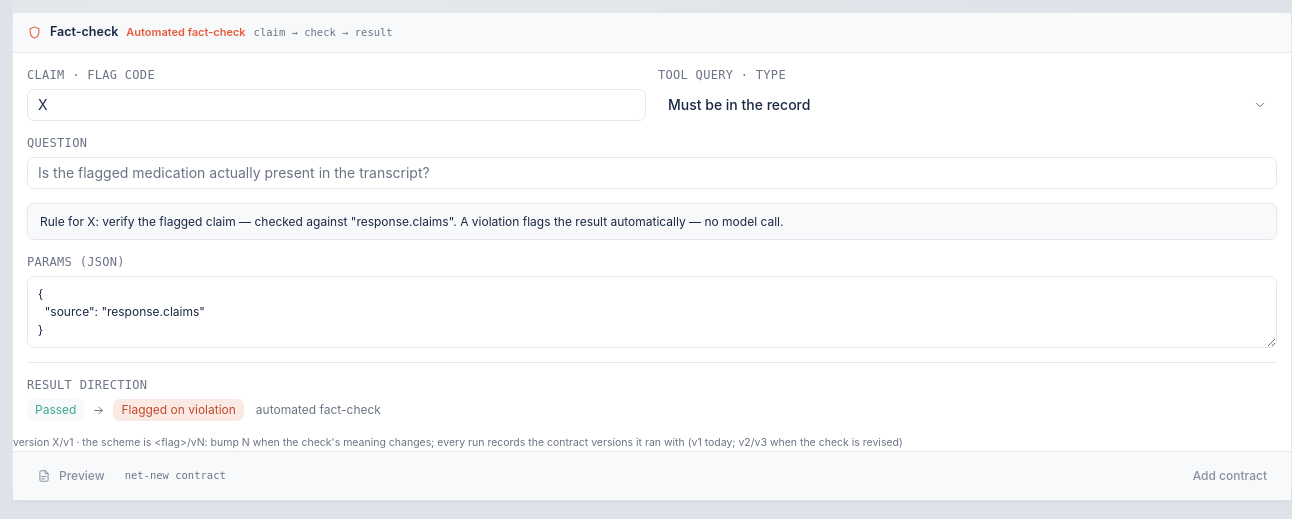
ContractBuilder — the live type list drives the UI, with a fallback (FAUTH-2 / A3) › fetches the active pack's registered types on mount and drives the Select from them
Press the mouse on the dropdown named "contract type" at (739, 104), box [658, 89, 1277, 121]
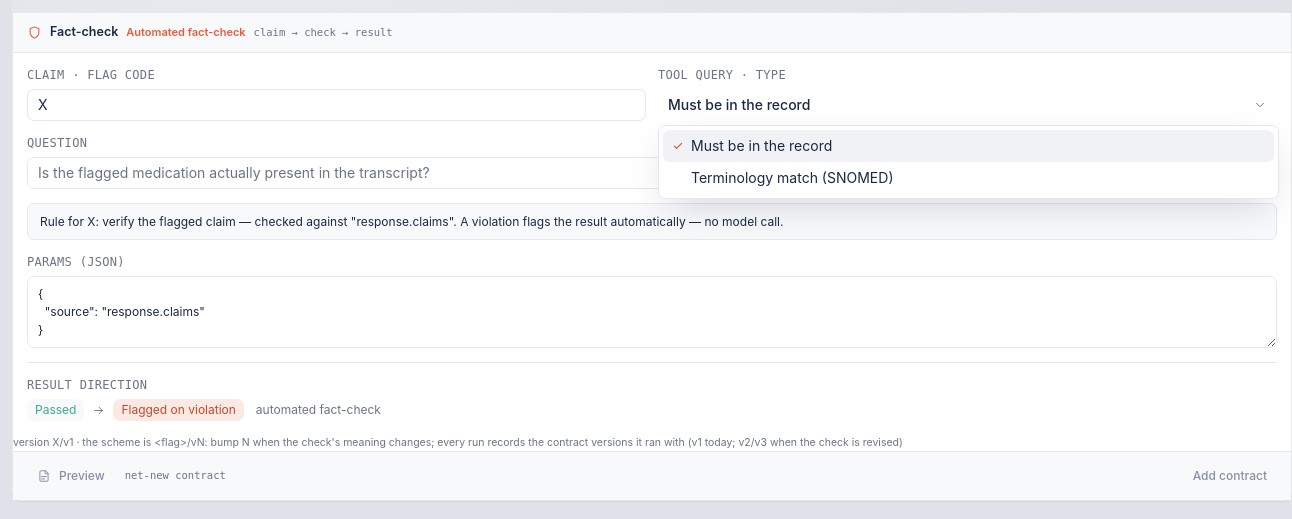
expect the text "Terminology match (SNOMED)" is shown: met, box [691, 168, 894, 188]
